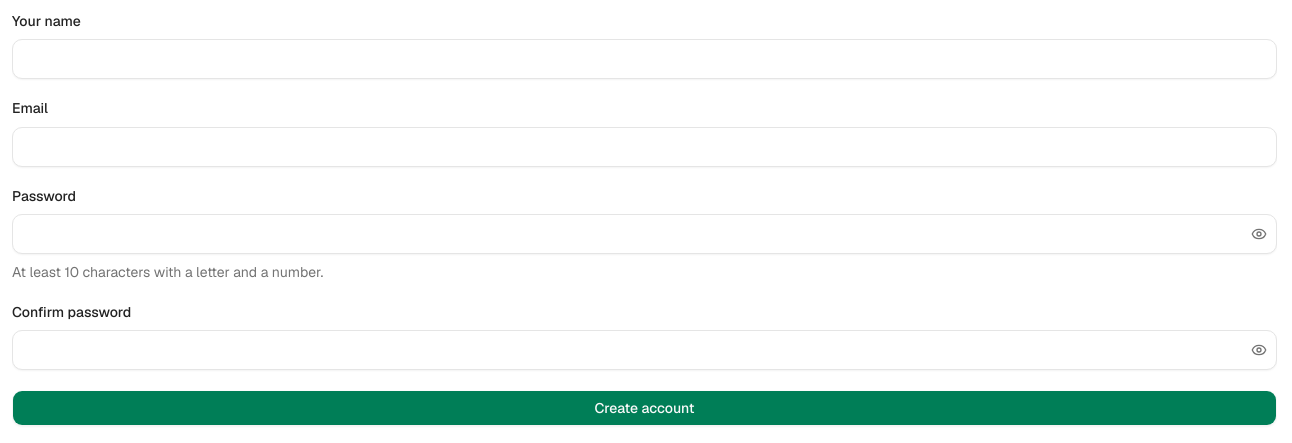
Test: SignupForm › shows the verification notice after a successful signup
In the field labelled "Your name": (644,59) 12,39 -> 1277,79, type "Asha"
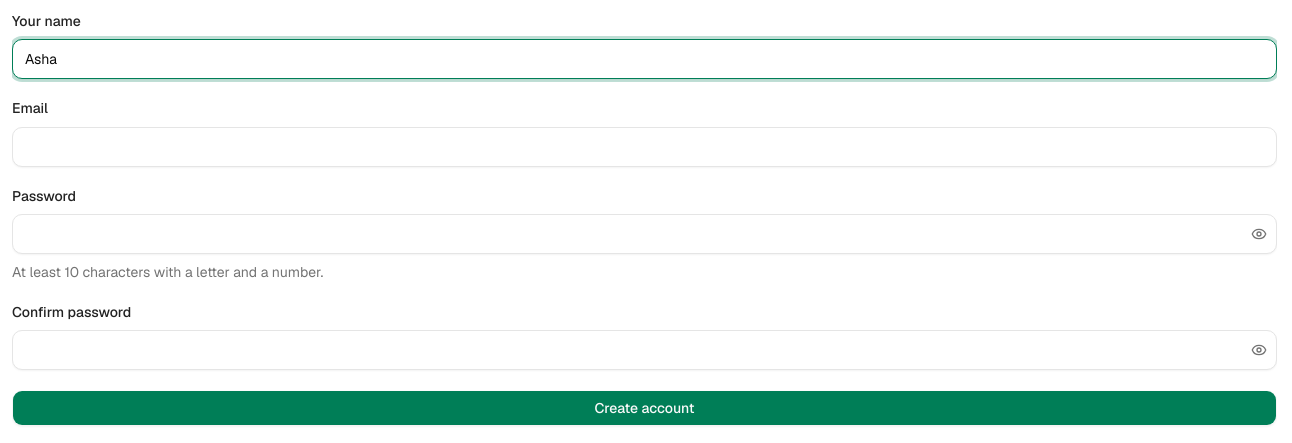
In the field labelled "Email": (644,146) 12,126 -> 1277,166, type "asha@example.com"
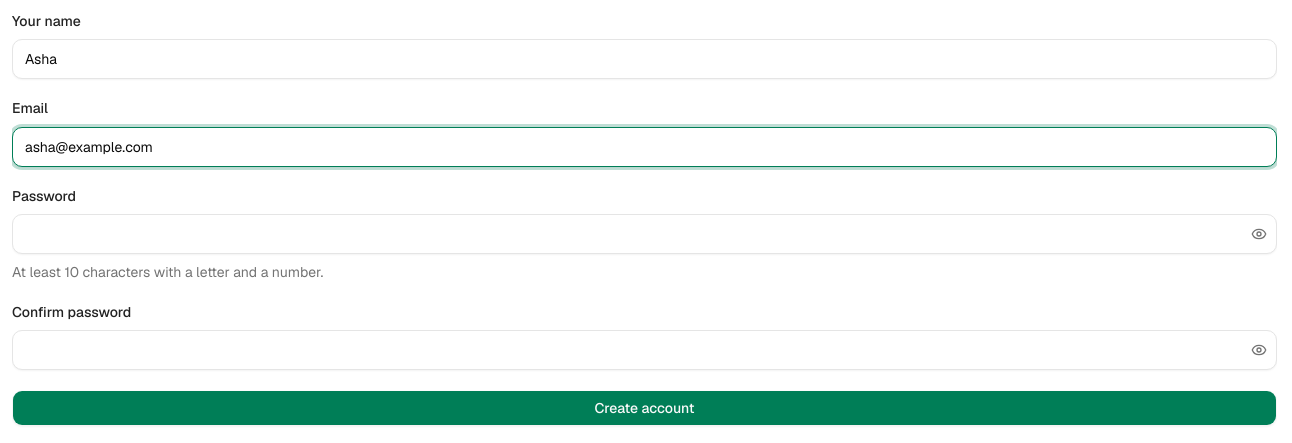
In the password field labelled "Password": (644,234) 12,214 -> 1277,254, type "paisa-track-2026"
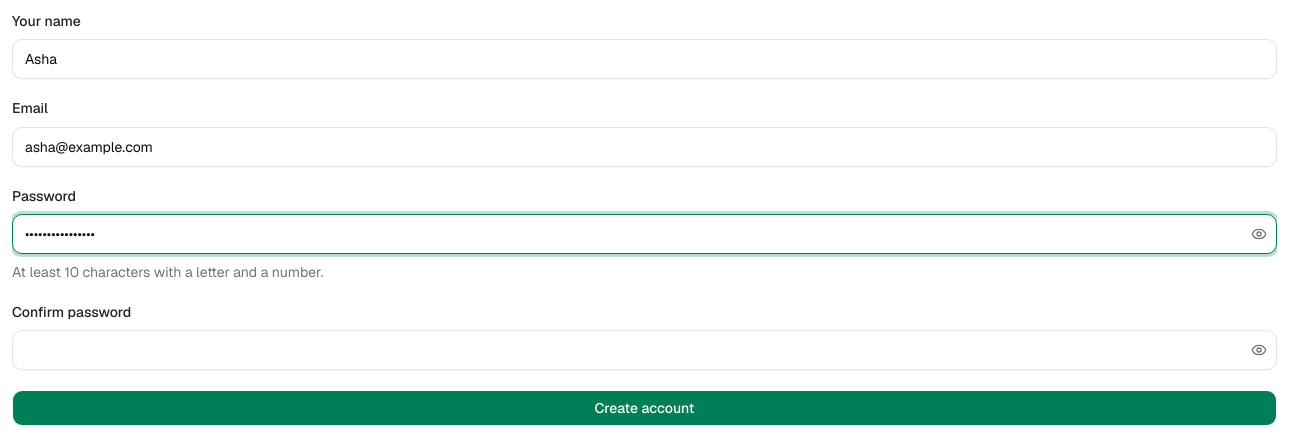
In the password field labelled "Confirm password": (644,350) 12,330 -> 1277,370, type "paisa-track-2026"
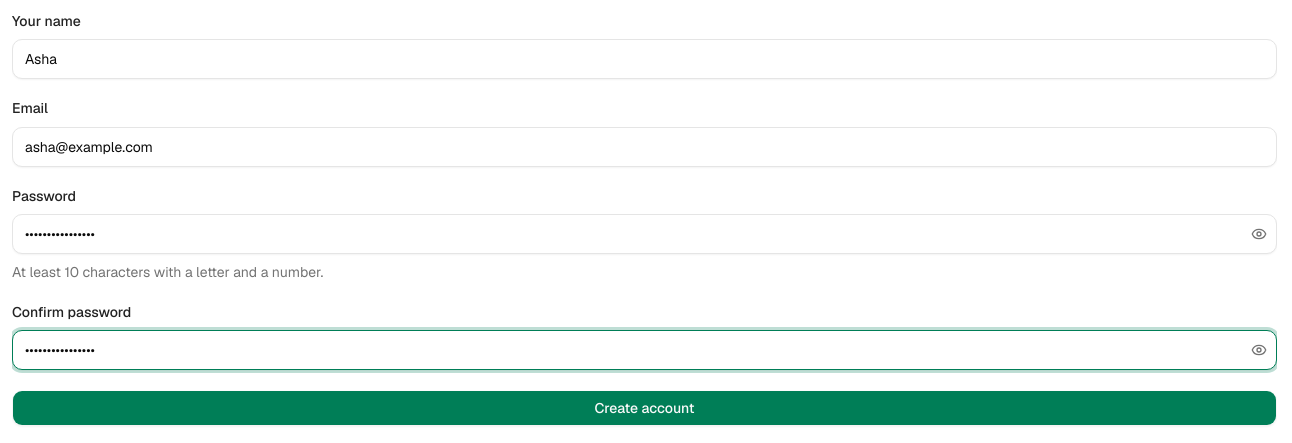
Click the button "Create account": (644,408) 12,390 -> 1277,426
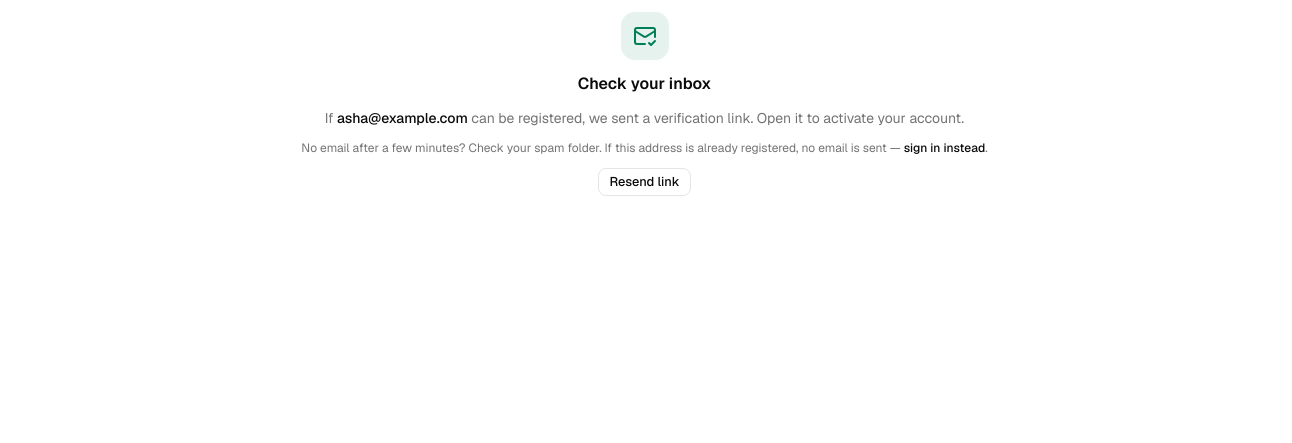
expect the heading "Check your inbox" is shown: met, box 578,72 -> 711,96
expect the text "asha@example.com" is shown: met, box 337,109 -> 468,127
